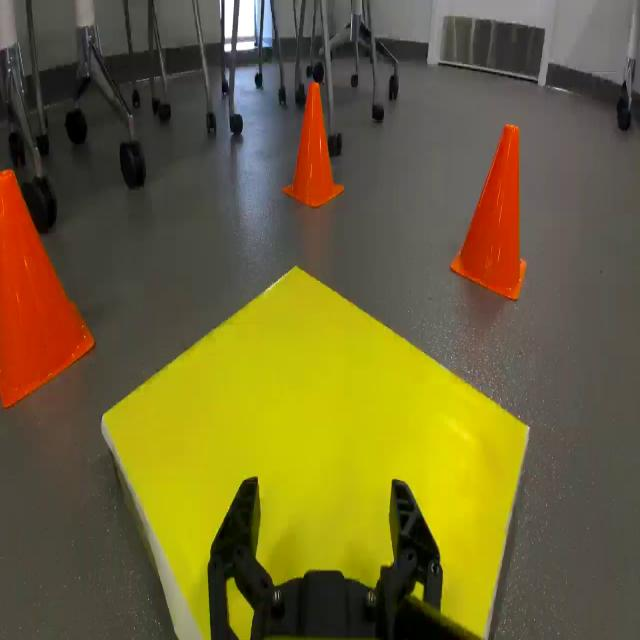cone: (0, 164, 98, 420), (444, 118, 530, 308), (282, 79, 345, 216)
yellow goal: (102, 259, 534, 640)
